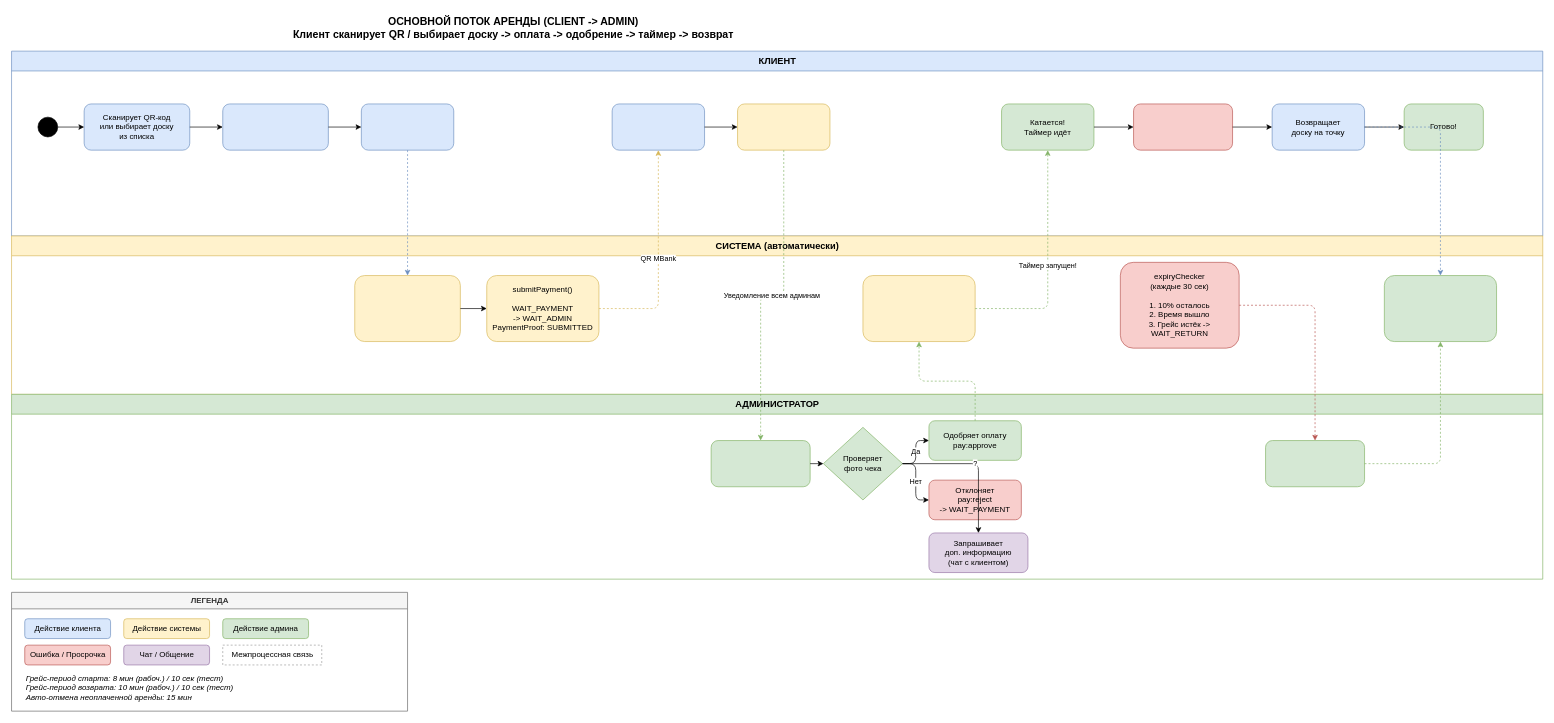
Some shapes in this 1554 by 723 pixel diagram are drawn without their labels. The centre of each missing label's shape, as x and y in pixels:
"acceptReturn() Статус: RETURNED endAt = now Доска: AVAILABLE" goes at point 1440,308.
"approveRental() Статус: RENTED startAt = now + 8мин (грейс-период)" goes at point 918,308.
"createRental() Статус: CREATED Доска: RENTED (заблокирована)" goes at point 407,308.
"Выбирает тариф (30м / 60м / 120м)" goes at point 275,126.
"Ожидает подтверждения от админа" goes at point 783,126.
"Получает QR MBank для оплаты" goes at point 658,126.
"Получает уведомление: Верните доску!" goes at point 1183,126.
"Получает уведомление: Новая оплата" goes at point 760,463.
"Принимает возврат доски seller:return" goes at point 1315,463.
"Принимает правила безопасности" goes at point 407,126.
